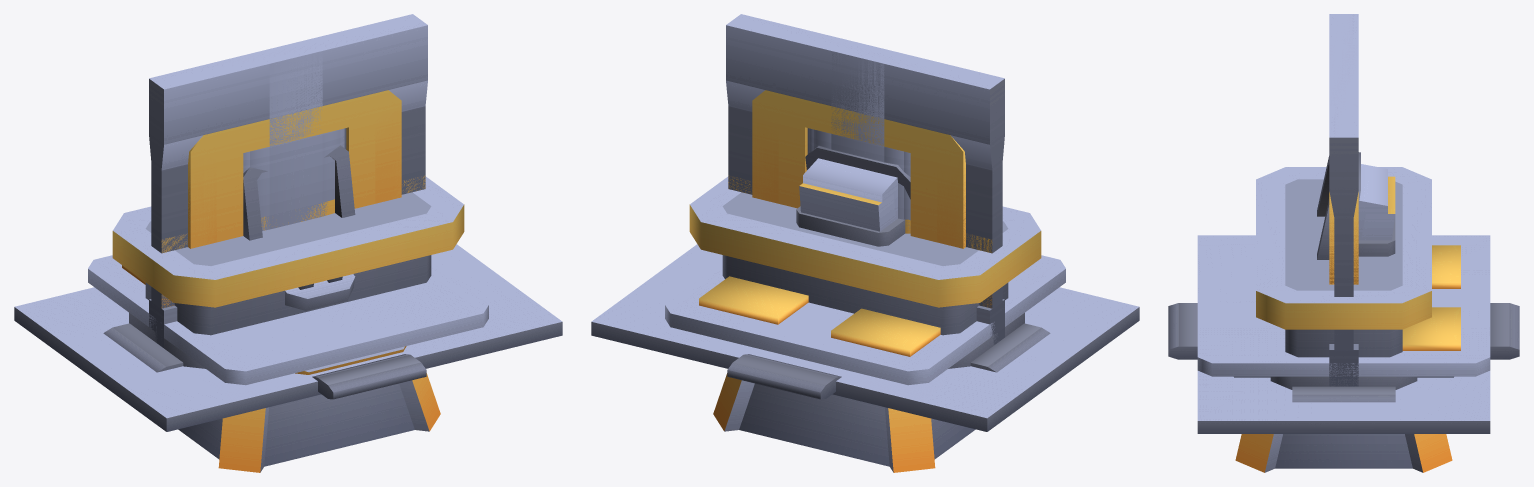
The model's file is kenny_sifi.glb.
The picture shows the model from 3 angles, left to right: view 1: azimuth 30°, elevation 25°; view 2: azimuth 150°, elevation 25°; view 3: azimuth 270°, elevation 25°; orthographic projection. The views are drawn at different scales.
Visible parts, largest first — view 1: table, wall, bed-double, floor-wide, table-display-small, wall-pillar, wall-door-wide, wall-door, floor-big, wall-narrow, structure-panel-big, wall-window-open (+3 smaller); view 2: table, wall, floor-wide, bed-double, table-display-small, wall-door-wide, wall-door, wall-pillar, computer, floor-big, wall-window-open, structure-panel-big (+3 smaller); view 3: table, bed-double, floor-wide, wall, table-display-small, structure-panel-big, computer, wall-pillar, floor-big, wall-narrow, chair-armrest, wall-door-wide (+2 smaller).
Part boxes in pixels (<box>): table: <box>112,176,464,368</box>; wall: <box>149,14,427,347</box>; bed-double: <box>88,255,488,385</box>; floor-wide: <box>14,244,562,431</box>; table-display-small: <box>178,346,440,472</box>; wall-pillar: <box>152,36,344,345</box>; wall-door-wide: <box>150,82,425,322</box>; wall-door: <box>150,87,427,324</box>; floor-big: <box>80,287,496,415</box>; wall-narrow: <box>215,31,361,148</box>; structure-panel-big: <box>84,289,426,399</box>; wall-window-open: <box>161,103,401,309</box>; table: <box>689,176,1041,368</box>; wall: <box>726,14,1004,344</box>; floor-wide: <box>591,244,1139,431</box>; bed-double: <box>665,255,1065,385</box>; table-display-small: <box>713,373,975,472</box>; wall-door-wide: <box>729,90,1003,321</box>; wall-door: <box>728,98,1003,323</box>; wall-pillar: <box>809,36,1001,344</box>; computer: <box>796,146,910,246</box>; floor-big: <box>657,287,1073,415</box>; wall-window-open: <box>728,101,979,307</box>; structure-panel-big: <box>727,291,1065,399</box>; table: <box>1256,167,1431,389</box>; bed-double: <box>1197,239,1490,377</box>; floor-wide: <box>1197,235,1490,433</box>; wall: <box>1329,14,1358,386</box>; table-display-small: <box>1235,434,1452,472</box>; structure-panel-big: <box>1168,303,1519,402</box>; computer: <box>1317,152,1395,259</box>; wall-pillar: <box>1329,14,1358,386</box>; floor-big: <box>1197,371,1490,389</box>; wall-narrow: <box>1329,45,1358,106</box>; chair-armrest: <box>1361,176,1395,240</box>; wall-door-wide: <box>1329,192,1358,349</box>.
Size of the model in its own units: 3 by 2.6 by 2.4.
27 materials, 27 textured.
